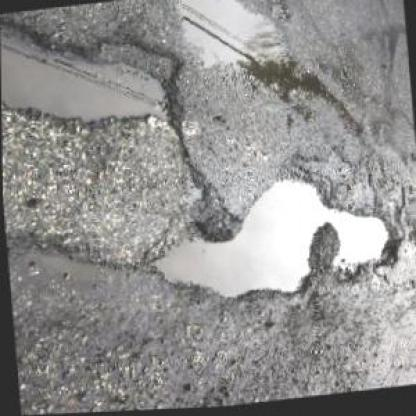pothole: (139, 164, 409, 316)
